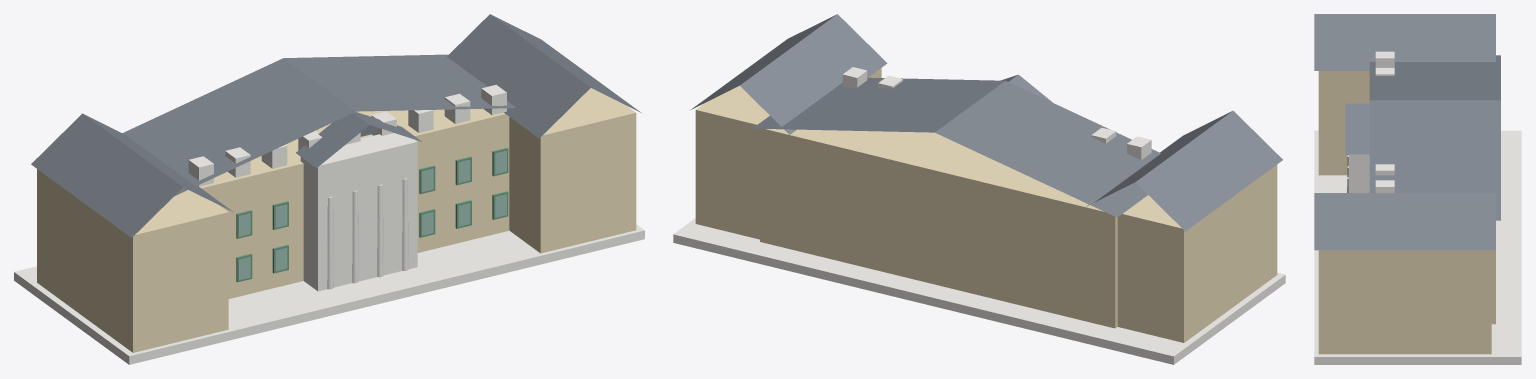
Rendered from lm_67_cuc_ban_do_da_lat_1939.glb.
3 renders of one model, left to right at view 1: azimuth 30°, elevation 25°; view 2: azimuth 150°, elevation 25°; view 3: azimuth 270°, elevation 25°, orthographic. The views are drawn at different scales.
Visible parts, largest first — view 1: lm_67_cuc_ban_do_da_lat_1939; view 2: lm_67_cuc_ban_do_da_lat_1939; view 3: lm_67_cuc_ban_do_da_lat_1939.
Part boxes in pixels (x1,y1,x2,y2): lm_67_cuc_ban_do_da_lat_1939: [14, 14, 644, 364]; lm_67_cuc_ban_do_da_lat_1939: [673, 14, 1285, 364]; lm_67_cuc_ban_do_da_lat_1939: [1314, 14, 1521, 364].
Bounding box in the file's own units: 62 × 19.3 × 24.
